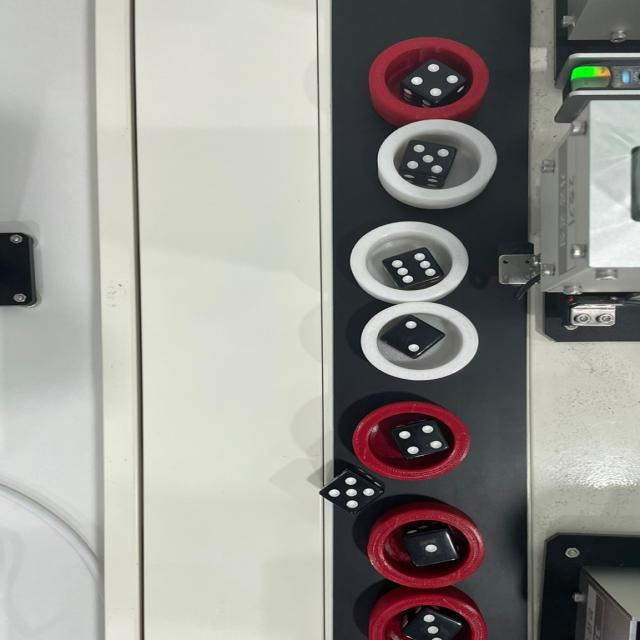DICE1: (420, 538, 442, 558)
DICE2: (396, 319, 426, 355)
DICE3: (415, 612, 444, 640)
DICE4: (412, 61, 461, 96), (398, 424, 444, 456)
DICE5: (327, 475, 378, 511), (404, 143, 452, 176)
DICE6: (391, 252, 439, 284)
RedChip: (370, 36, 491, 118), (351, 404, 472, 481), (368, 509, 485, 587), (366, 594, 486, 640)
WhiteChip: (376, 120, 497, 202), (351, 222, 474, 302), (359, 302, 479, 380)
